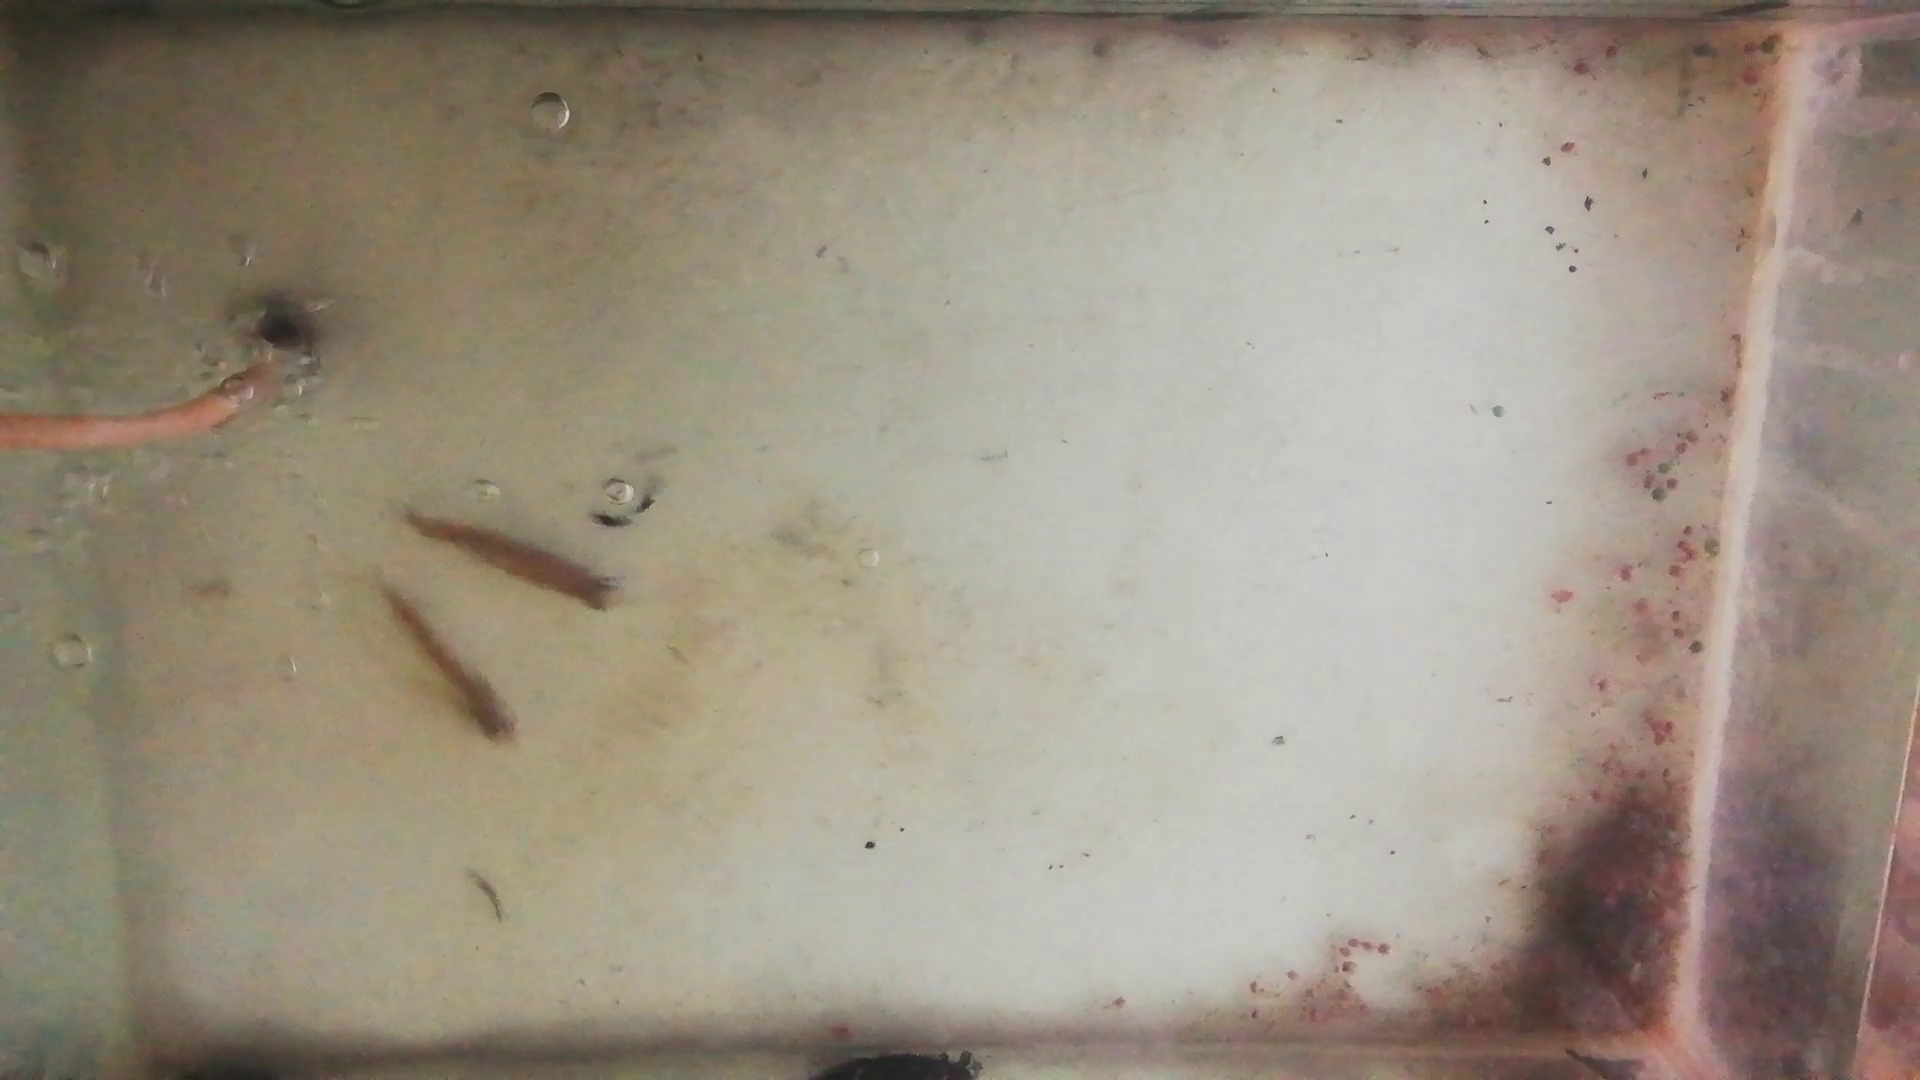fish: (378, 582, 522, 752), (397, 509, 626, 615)
